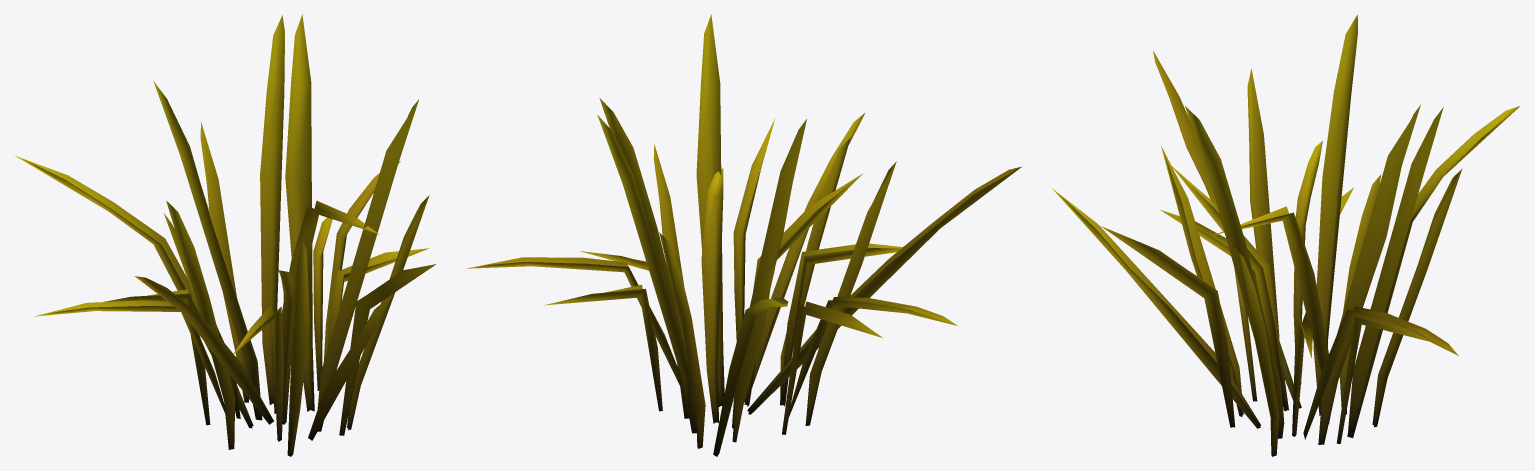
File: Grass_Wispy_Short.gltf
3 renders of one model, left to right at view 1: azimuth 30°, elevation 25°; view 2: azimuth 150°, elevation 25°; view 3: azimuth 270°, elevation 25°, orthographic. The views are drawn at different scales.
Parts seen in each view (by area): view 1: Grass_Wispy_Short; view 2: Grass_Wispy_Short; view 3: Grass_Wispy_Short.
Boxes of the visible parts, x1=… form: Grass_Wispy_Short: x1=15, y1=14, x2=436, y2=456; Grass_Wispy_Short: x1=467, y1=14, x2=1021, y2=456; Grass_Wispy_Short: x1=1052, y1=14, x2=1519, y2=456.
Bounding box in the file's own units: 1.32 × 1.07 × 1.21.
1 material, 1 textured.
